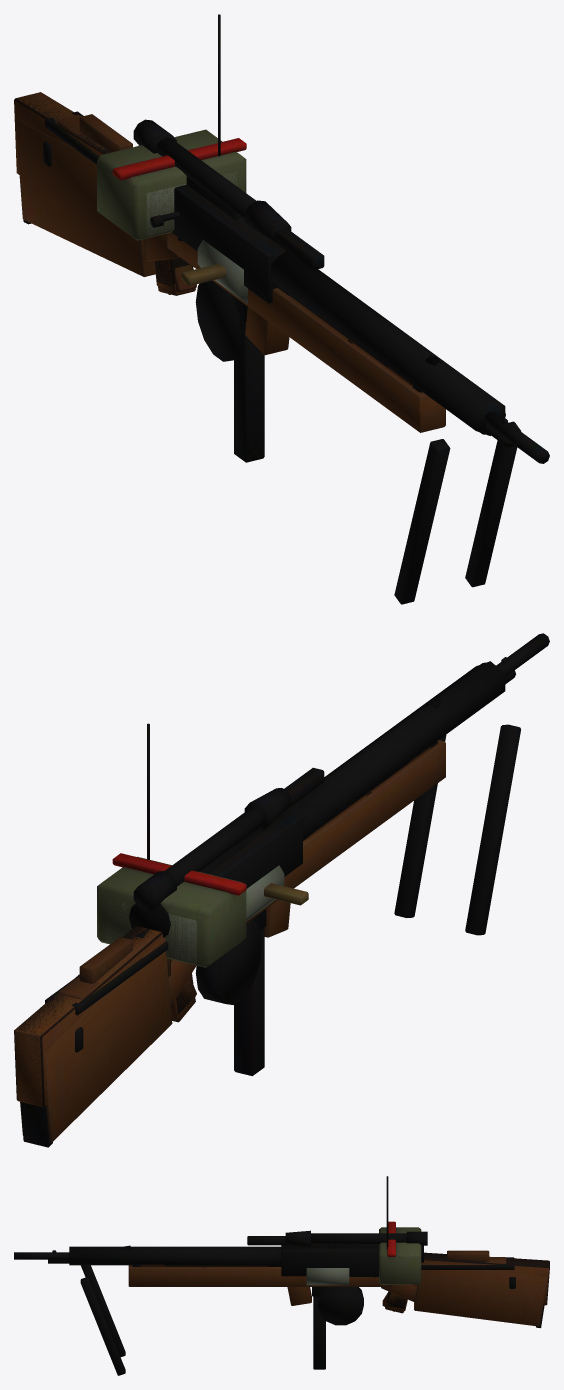
The model's file is weapons.glb.
3 renders of one model, top to bottom at view 1: azimuth 30°, elevation 25°; view 2: azimuth 150°, elevation 25°; view 3: azimuth 270°, elevation 25°, orthographic. The views are drawn at different scales.
Visible parts, largest first — view 1: mg34, kar98k, time_bomb, mg42, no4_sniper, mp40, thompson, remote_bomb, stick_grenade, harpoon_gun; view 2: mg34, kar98k, time_bomb, mg42, no4_sniper, thompson, mp40, remote_bomb, harpoon_gun, stick_grenade; view 3: kar98k, mg34, mg42, no4_sniper, thompson, time_bomb, mp40, stick_grenade, harpoon_gun.
Boxes of the visible parts, x1=… form: mg34: x1=14, y1=92, x2=549, y2=604; kar98k: x1=15, y1=120, x2=514, y2=447; time_bomb: x1=97, y1=129, x2=246, y2=240; mg42: x1=14, y1=92, x2=505, y2=435; no4_sniper: x1=79, y1=114, x2=513, y2=447; mp40: x1=43, y1=111, x2=270, y2=462; thompson: x1=25, y1=115, x2=289, y2=361; remote_bomb: x1=146, y1=14, x2=236, y2=235; stick_grenade: x1=197, y1=240, x2=247, y2=304; harpoon_gun: x1=58, y1=115, x2=441, y2=366; mg34: x1=14, y1=633, x2=549, y2=1106; kar98k: x1=20, y1=657, x2=515, y2=1147; time_bomb: x1=97, y1=853, x2=246, y2=967; mg42: x1=14, y1=661, x2=505, y2=1107; no4_sniper: x1=79, y1=657, x2=507, y2=983; thompson: x1=54, y1=900, x2=290, y2=1043; mp40: x1=45, y1=823, x2=273, y2=1076; remote_bomb: x1=106, y1=723, x2=196, y2=963; harpoon_gun: x1=58, y1=699, x2=441, y2=1022; stick_grenade: x1=246, y1=865, x2=284, y2=920; kar98k: x1=48, y1=1259, x2=546, y2=1328; mg34: x1=14, y1=1236, x2=548, y2=1375; mg42: x1=69, y1=1246, x2=549, y2=1305; no4_sniper: x1=52, y1=1230, x2=489, y2=1302; thompson: x1=287, y1=1261, x2=536, y2=1325; time_bomb: x1=379, y1=1221, x2=423, y2=1284; mp40: x1=298, y1=1246, x2=515, y2=1369; stick_grenade: x1=306, y1=1268, x2=349, y2=1285; harpoon_gun: x1=122, y1=1245, x2=506, y2=1313.
Size of the model in its own units: 0.18 by 0.52 by 1.26.
1 material, 1 textured.
